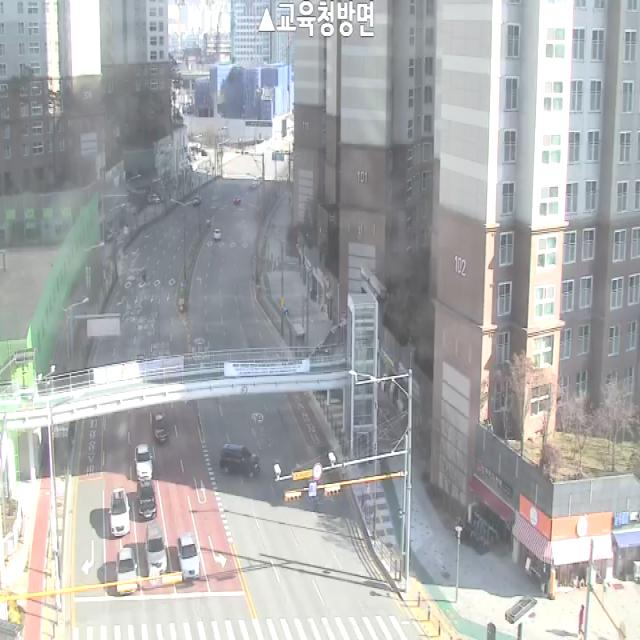Car: (221, 444, 260, 478), (146, 523, 168, 574), (108, 488, 130, 536), (178, 533, 200, 579), (118, 548, 138, 595), (138, 480, 157, 520), (135, 444, 153, 481), (153, 414, 169, 443), (213, 229, 220, 239), (234, 197, 241, 205)
